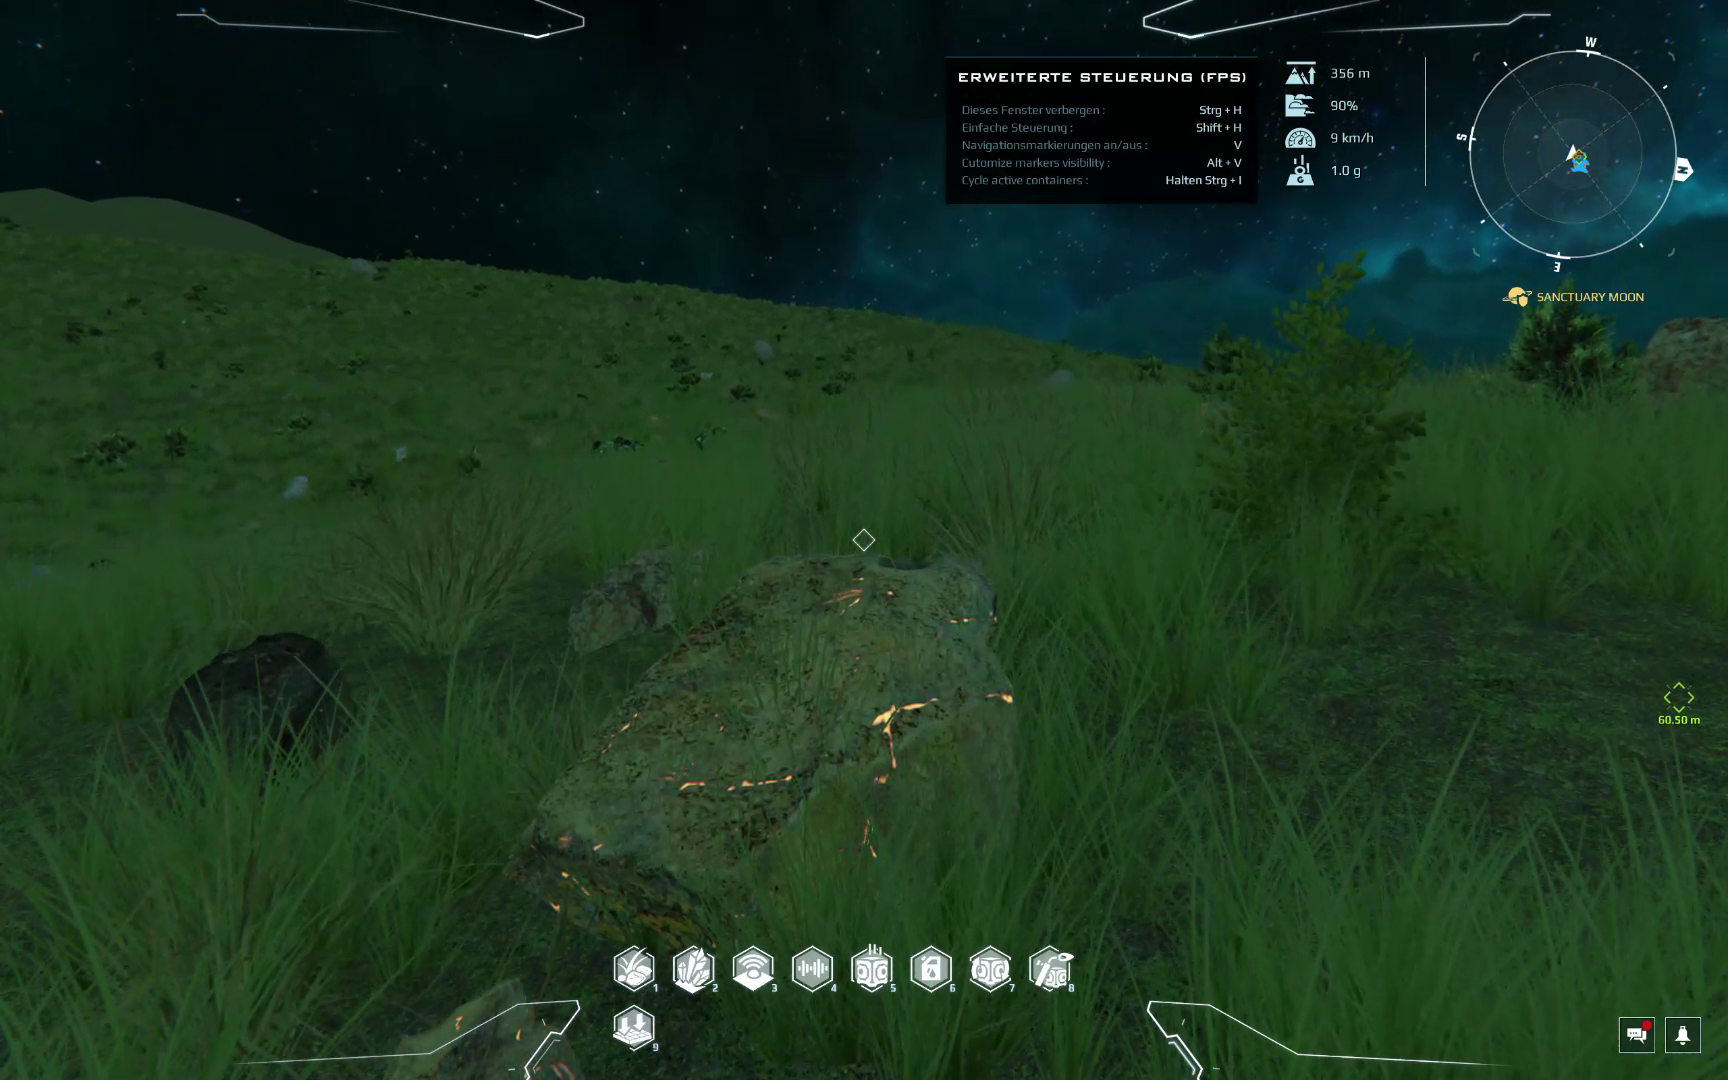Ore: (513, 547, 1033, 966), (151, 631, 365, 753), (382, 973, 600, 1079), (560, 541, 681, 647)
